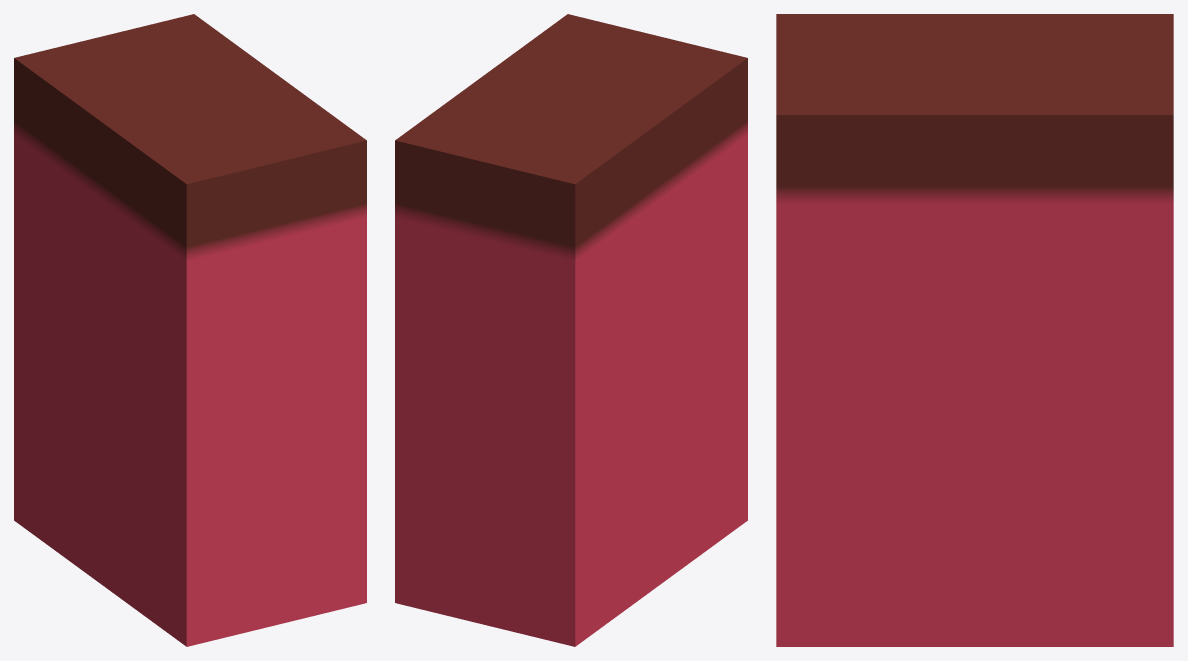
The model's file is Itr_Obj_Book3_01.FBX.
3 views of the same model, side by side, from view 1: azimuth 30°, elevation 25°; view 2: azimuth 150°, elevation 25°; view 3: azimuth 270°, elevation 25° (orthographic). The views are drawn at different scales.
Parts seen in each view (by area): view 1: Itr_Obj_Book3_01; view 2: Itr_Obj_Book3_01; view 3: Itr_Obj_Book3_01.
Part boxes in pixels (x1,y1,x2,y2): Itr_Obj_Book3_01: (14, 14, 366, 646); Itr_Obj_Book3_01: (395, 14, 747, 646); Itr_Obj_Book3_01: (776, 14, 1173, 646).
Size of the model in its own units: 3.41 by 8.38 by 5.67.
